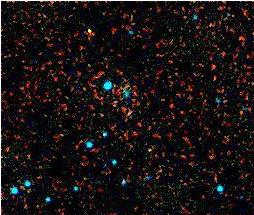star: (76, 18, 106, 48)
